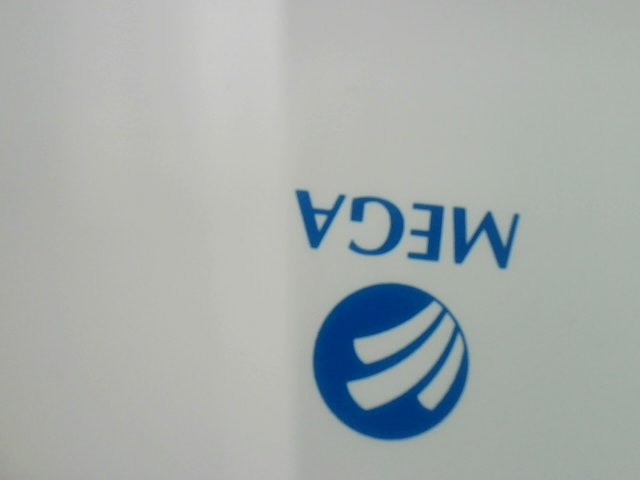AM_ZTEMEGA: (273, 170, 542, 452)
